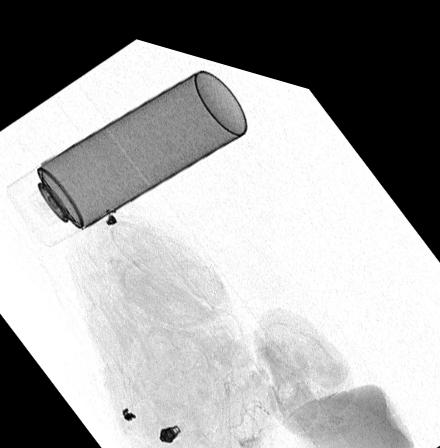Sprayer: (6, 59, 248, 245)
